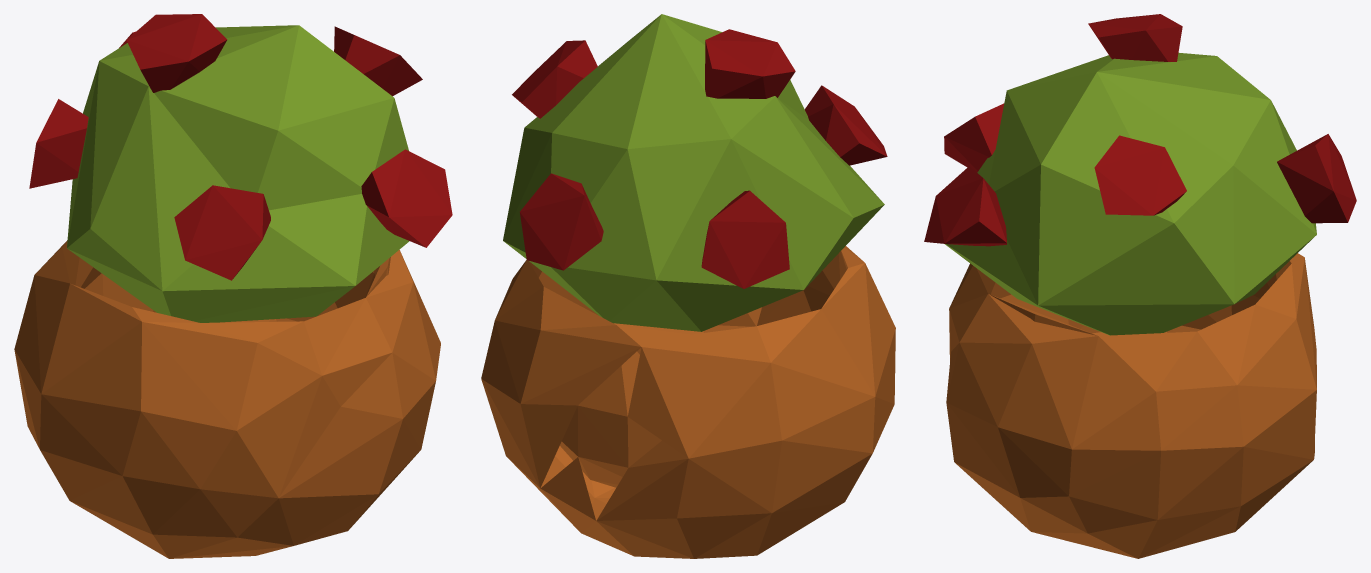
Rendered from SM_flowerpot_01.fbx.
The picture shows the model from 3 angles, left to right: view 1: azimuth 30°, elevation 25°; view 2: azimuth 150°, elevation 25°; view 3: azimuth 270°, elevation 25°; orthographic projection. The views are drawn at different scales.
Parts seen in each view (by area): view 1: Object4138; view 2: Object4138; view 3: Object4138.
Part boxes in pixels (bbox=[...]): Object4138: bbox=[14, 14, 452, 558]; Object4138: bbox=[481, 14, 895, 558]; Object4138: bbox=[924, 14, 1356, 558].
Bounding box in the file's own units: 26.63 × 35.03 × 28.42.
